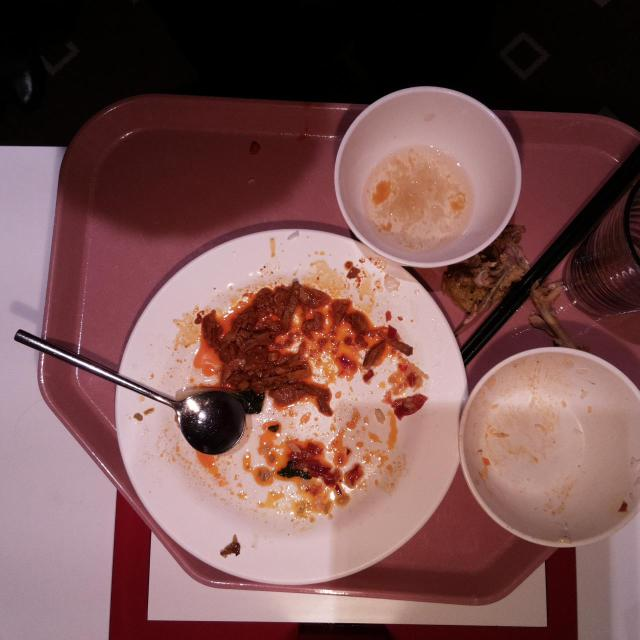Bone: (456, 269, 507, 335), (530, 288, 572, 348), (502, 228, 528, 280)
